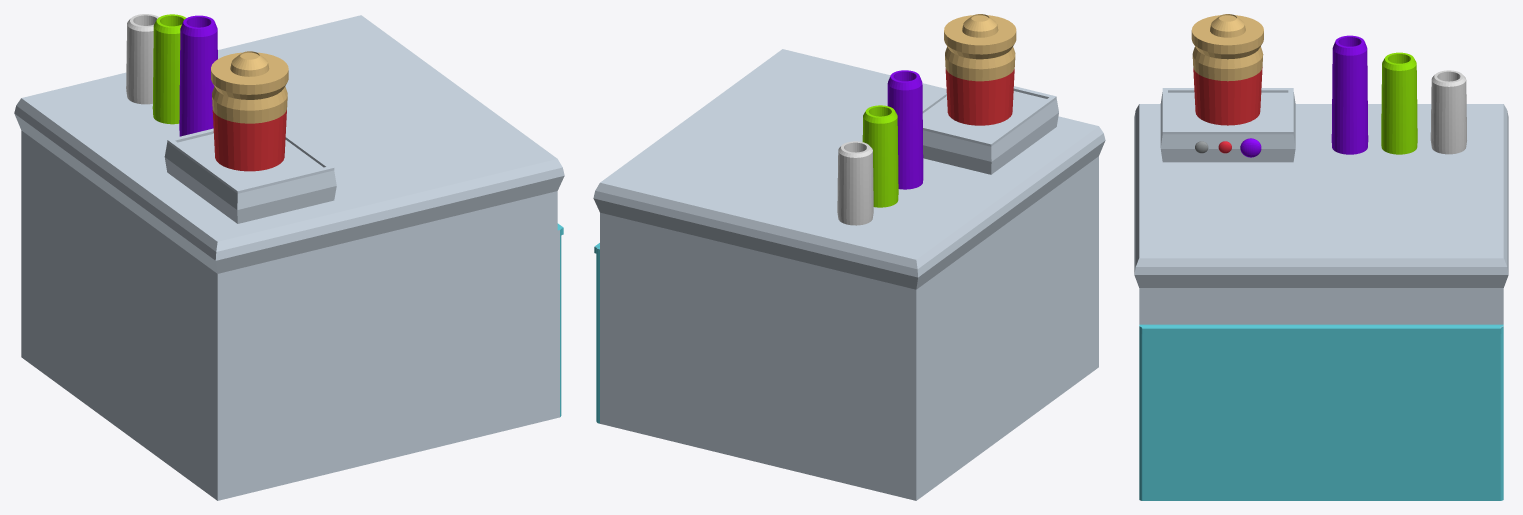
File: laboratuvar.fbx
3 renders of one model, left to right at view 1: azimuth 30°, elevation 25°; view 2: azimuth 150°, elevation 25°; view 3: azimuth 270°, elevation 25°, orthographic. The views are drawn at different scales.
Parts seen in each view (by area): view 1: laboratuvar; view 2: laboratuvar; view 3: laboratuvar.
Part boxes in pixels (x1=…): laboratuvar: x1=14, y1=14, x2=564, y2=500; laboratuvar: x1=593, y1=14, x2=1105, y2=500; laboratuvar: x1=1134, y1=14, x2=1508, y2=500.
Bounding box in the file's own units: 322 × 342 × 319.
